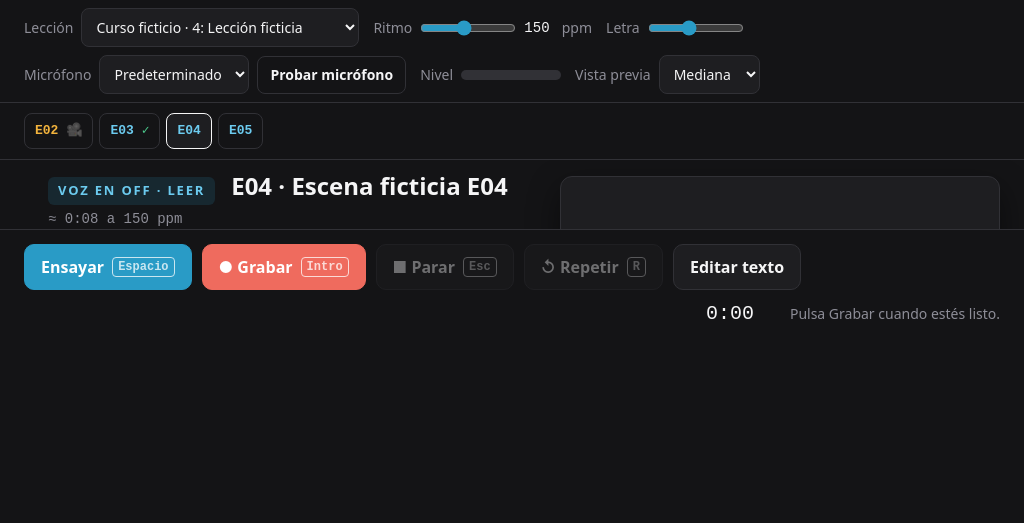
Test: Teleprompter › una escena a cámara se ve con su texto y no deja grabar
Click the button "E02 🎥".
click(59, 131)  # box [24, 113, 93, 149]
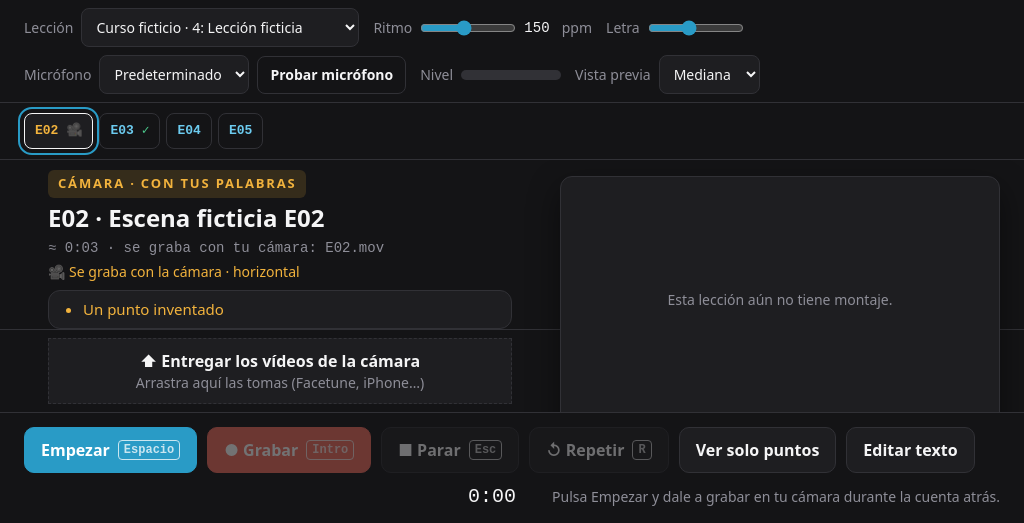
Expected: the text "Cámara · con tus palabras" is shown, [48, 170, 306, 198]
Expected: the text "≈ 0:03 · se graba con tu cámara: E02.mov" is shown, [48, 238, 384, 258]
Expected: the button "● Grabar Intro" is disabled, [207, 426, 371, 472]
